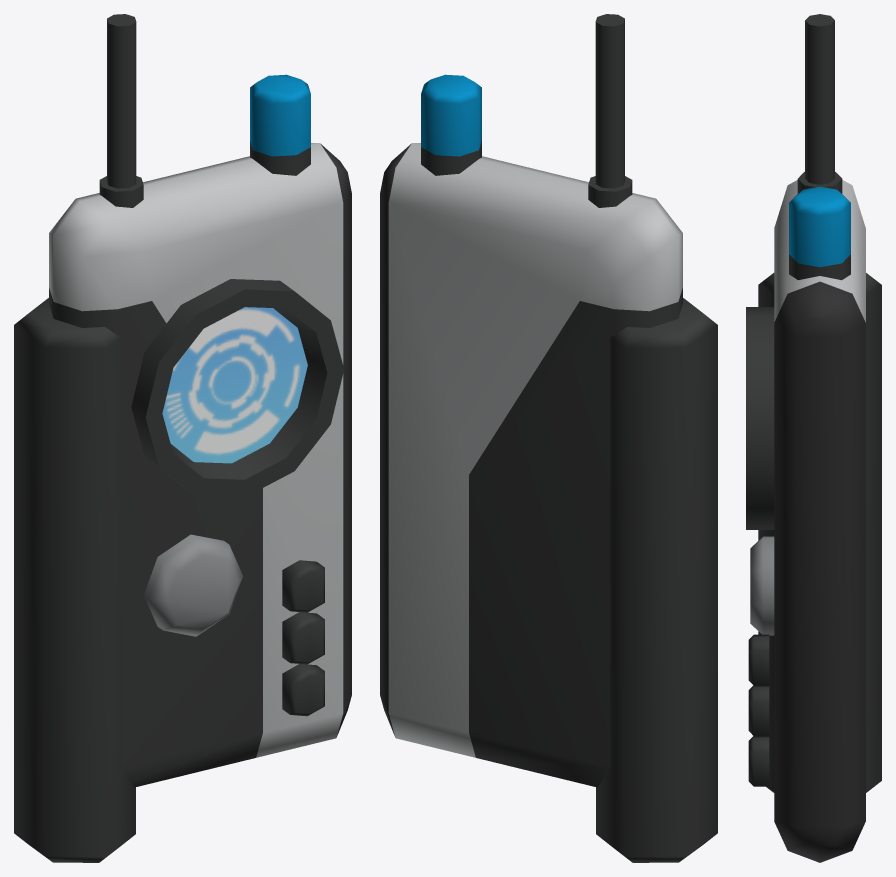
The model's file is Analyzer_004.fbx.
3 renders of one model, left to right at view 1: azimuth 30°, elevation 25°; view 2: azimuth 150°, elevation 25°; view 3: azimuth 270°, elevation 25°, orthographic. The views are drawn at different scales.
Visible parts, largest first — view 1: Analyzer_004; view 2: Analyzer_004; view 3: Analyzer_004.
Part boxes in pixels (x1,y1,x2,y2): Analyzer_004: (14, 14, 351, 862); Analyzer_004: (380, 14, 717, 862); Analyzer_004: (746, 14, 881, 862).
Size of the model in its own units: 18.17 by 7.05 by 45.5.
